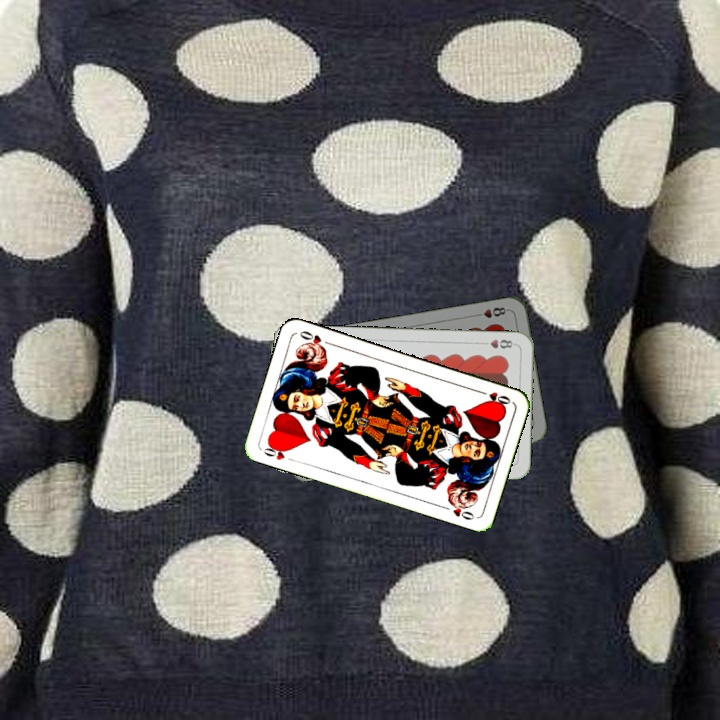H8: (470, 303, 511, 321), (477, 336, 518, 351)
HO: (474, 386, 513, 408), (260, 440, 292, 462)
